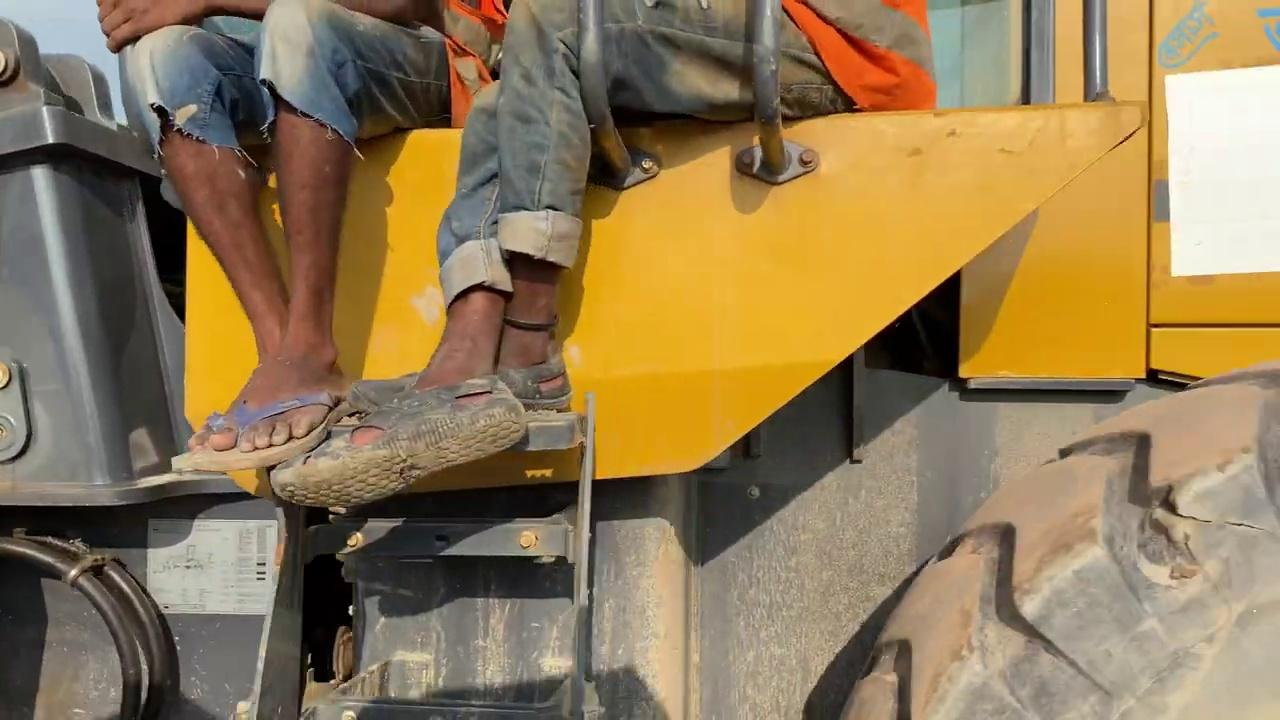Tree: (2, 0, 1277, 718)
